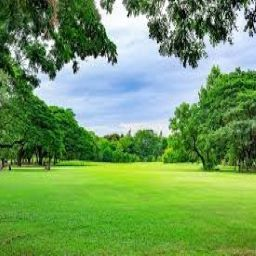grass: (2, 170, 253, 254)
